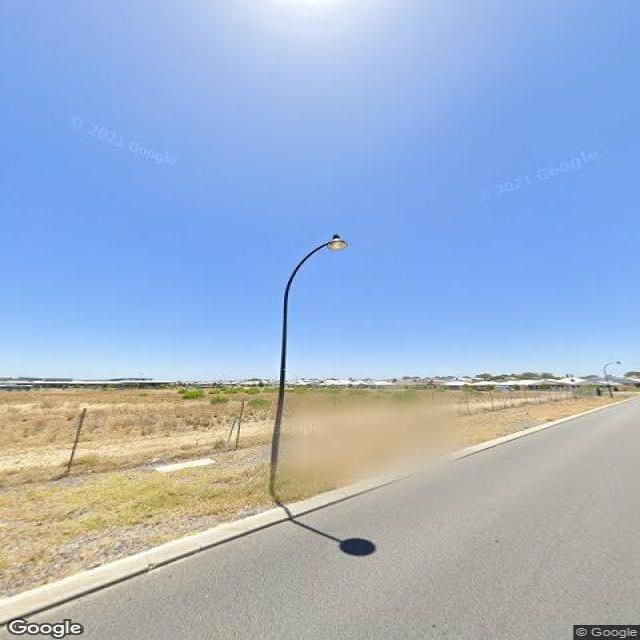steel-pole: (268, 284, 291, 492), (604, 368, 613, 397)
streetlight: (286, 234, 350, 290), (604, 362, 622, 369)
